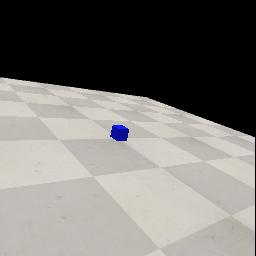box: (110, 125, 129, 141)
